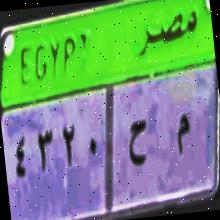0: (82, 130, 100, 162)
2: (59, 119, 80, 168)
3: (32, 123, 57, 178)
4: (11, 133, 29, 180)
7aa: (124, 112, 152, 174)
meem: (167, 96, 194, 162)
